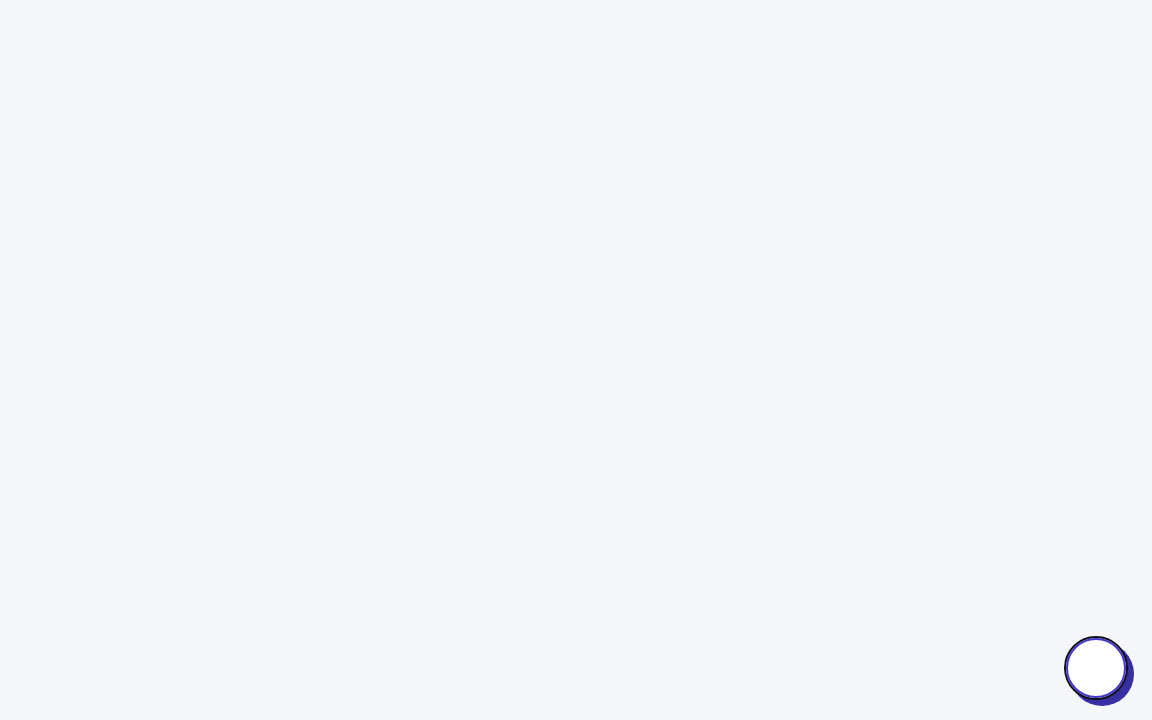
Test: Wise › does not send an empty question
The image size is (1152, 720).
Later steps or results of the test are not shown.
Click the button named "Ask Wise, your assistant". click: (1096, 668)
box: [1064, 636, 1128, 700]
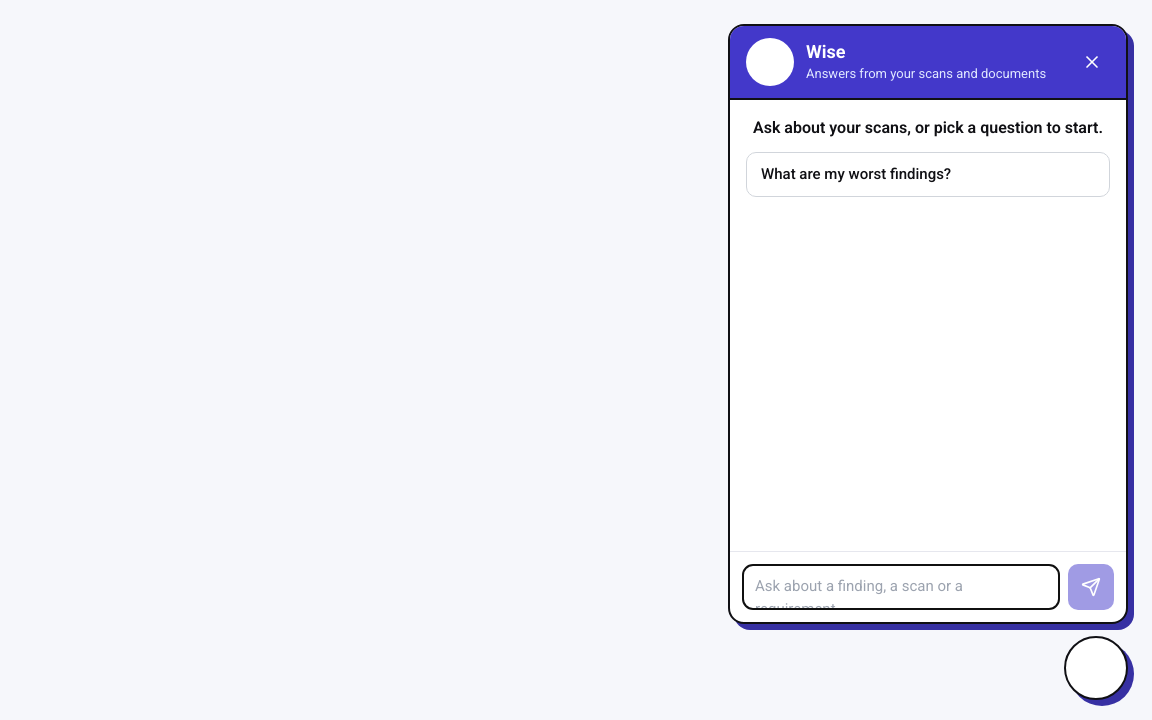
expect the button named "Send" is disabled: met, box [1068, 564, 1114, 610]
